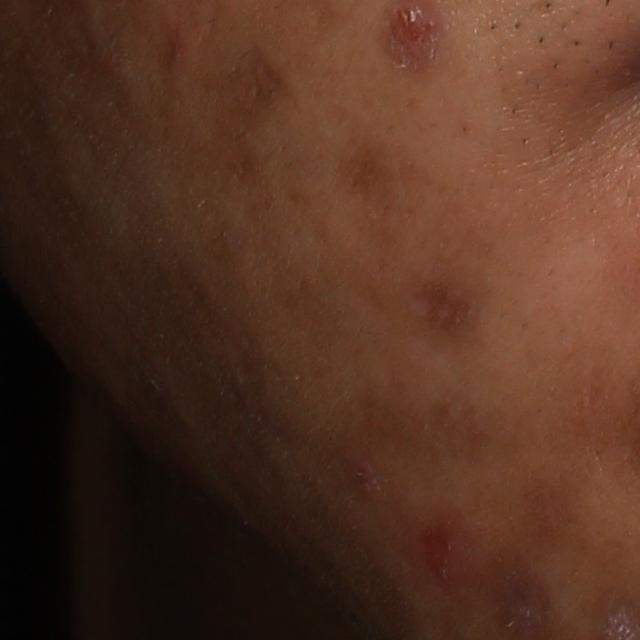papule: (413, 521, 463, 592), (387, 1, 434, 57)
